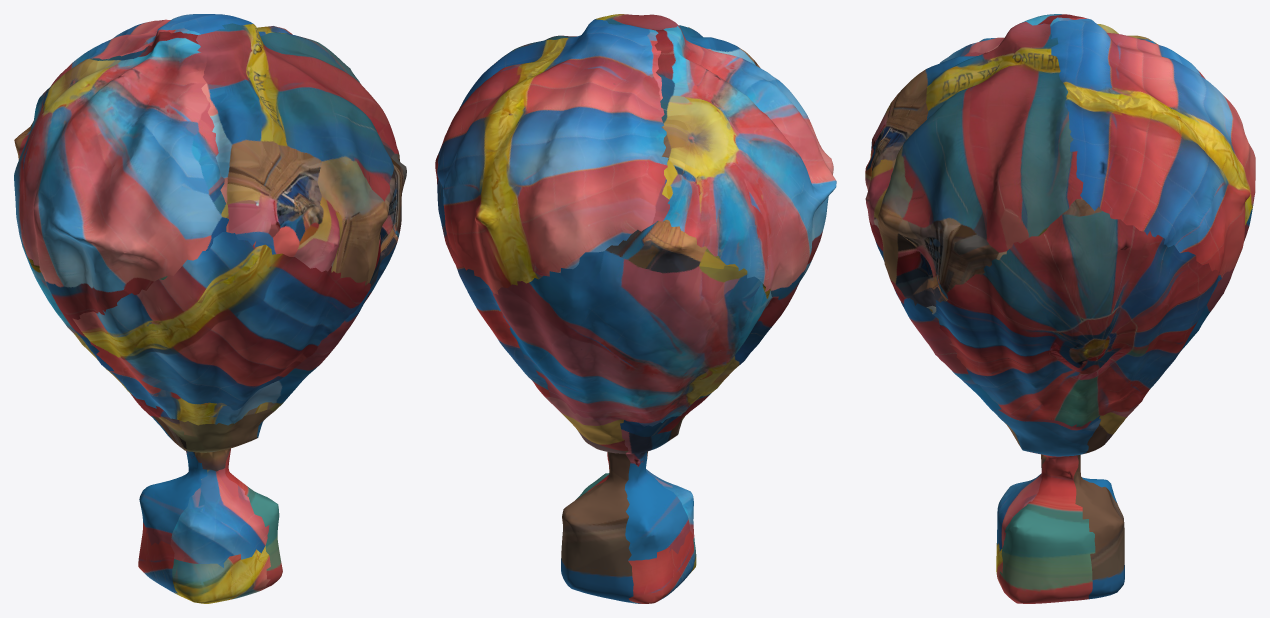
Rendered from mongolfiera.obj.
3 views of the same model, side by side, from view 1: azimuth 30°, elevation 25°; view 2: azimuth 150°, elevation 25°; view 3: azimuth 270°, elevation 25° (orthographic).
Visible parts, largest first — view 1: Mesh_0; view 2: Mesh_0; view 3: Mesh_0.
Part boxes in pixels (left/top/right/bottom): Mesh_0: left=14, top=14, right=406, bottom=603; Mesh_0: left=435, top=14, right=836, bottom=603; Mesh_0: left=865, top=14, right=1255, bottom=603.
Bounding box in the file's own units: 0.7765 × 1.2 × 0.7592.
Materials: 1 (1 with a texture image).
